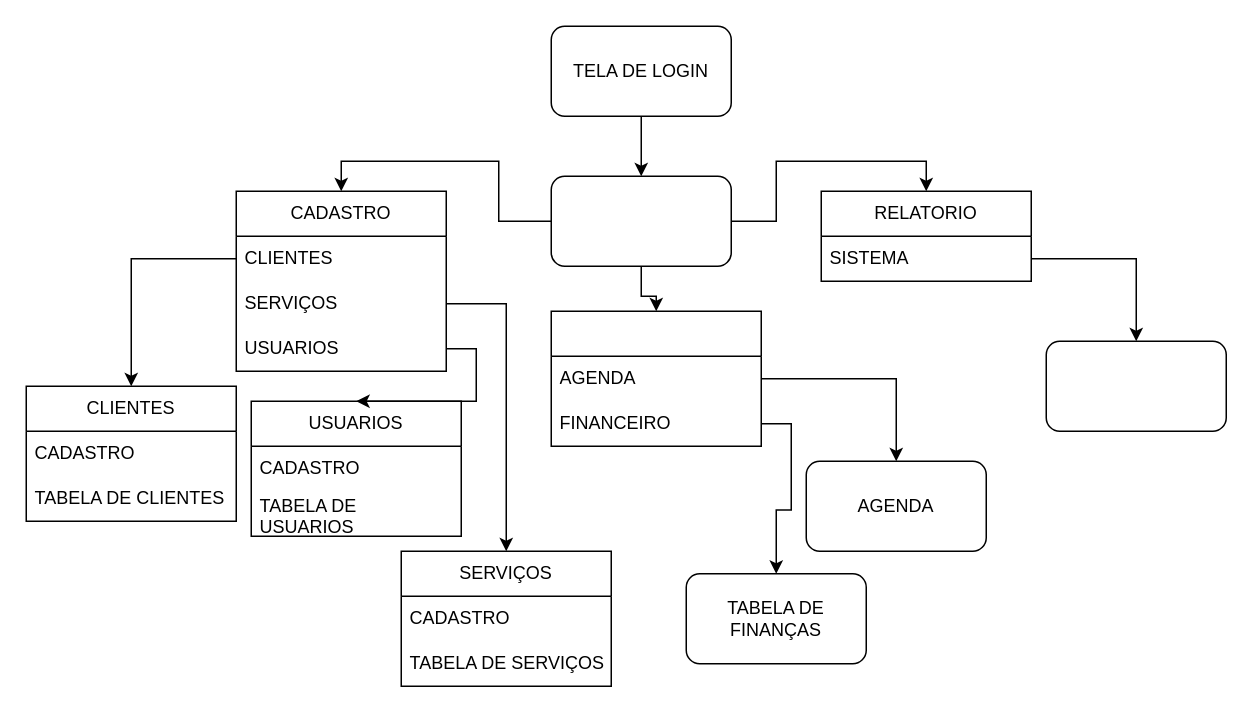
Some shapes in this 1253 by 713 pixel diagram are drawn without their labels. The shapes that lost their labels are listed below. From the top down, each one's box as (x1, y1, x2, y2) in pixels, then its label:
(550, 175, 731, 266): MENU PRINCIPAL
(550, 310, 761, 446): OPERAÇÃO
(1045, 340, 1226, 431): RELATORIO DO SISTEMA
